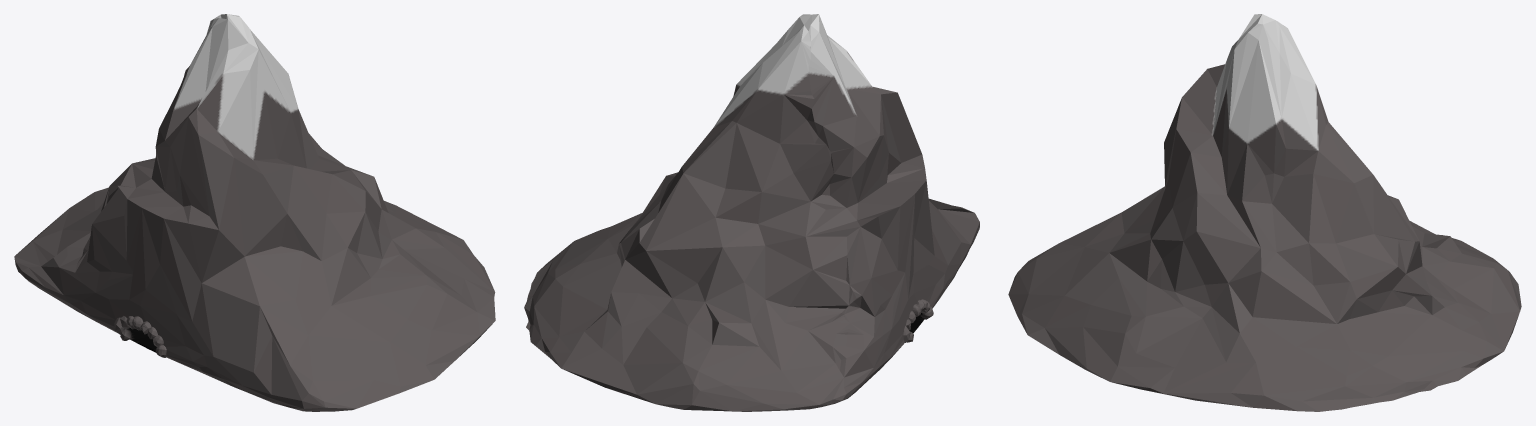
The model's file is Mountain Cave 2.fbx.
The picture shows the model from 3 angles, left to right: view 1: azimuth 30°, elevation 25°; view 2: azimuth 150°, elevation 25°; view 3: azimuth 270°, elevation 25°; orthographic projection. The views are drawn at different scales.
Parts seen in each view (by area): view 1: Mountain_Cave_2; view 2: Mountain_Cave_2; view 3: Mountain_Cave_2.
Part boxes in pixels (box(x1,y1,x2,y2)): Mountain_Cave_2: box(14, 14, 495, 411); Mountain_Cave_2: box(524, 14, 979, 411); Mountain_Cave_2: box(1008, 14, 1521, 411).
Size of the model in its own units: 151 by 120 by 193.
Materials: 1 (1 with a texture image).
